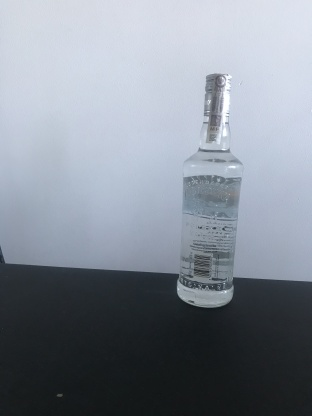nakretka: (201, 69, 234, 119)
